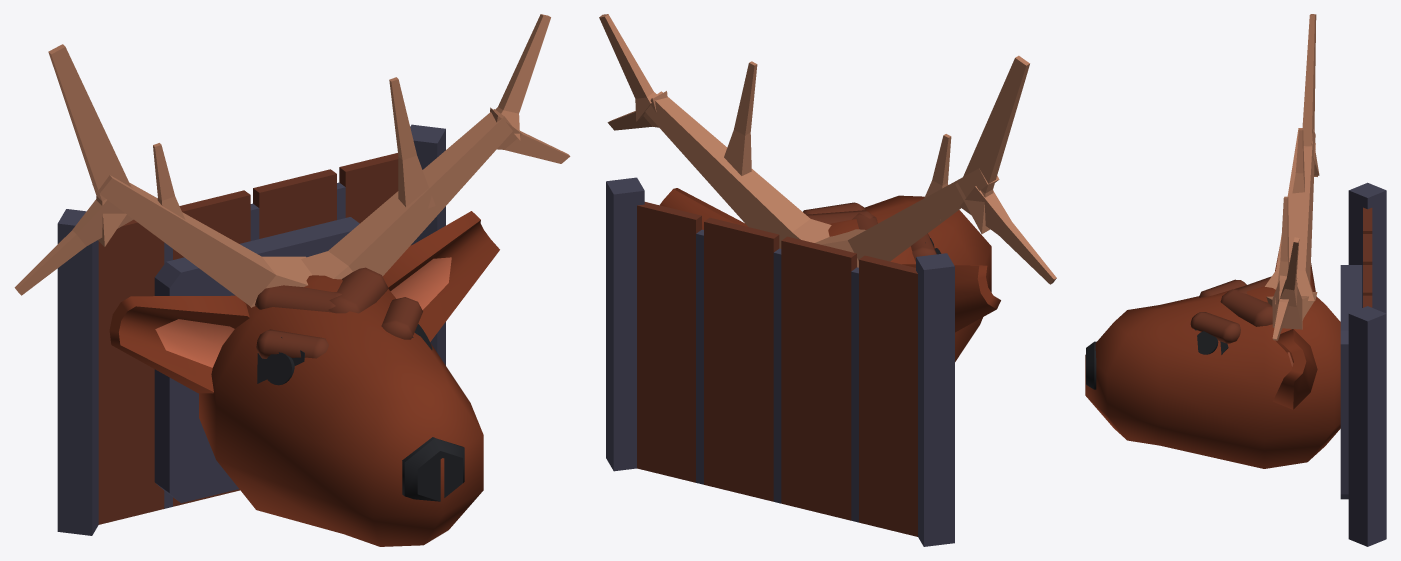
Rendered from AnimalTrophy.fbx.
3 views of the same model, side by side, from view 1: azimuth 30°, elevation 25°; view 2: azimuth 150°, elevation 25°; view 3: azimuth 270°, elevation 25° (orthographic). The views are drawn at different scales.
Visible parts, largest first — view 1: body_point, fence_garden, tree_branchLongBend (×4), ear_point (×2), roof_flat, leg (×4), tree_branchLong (×3), leafs_round, tree_branchShortBend, detail_boltNut%; view 2: fence_garden, tree_branchLongBend (×4), tree_branchLong (×3), body_point, ear_point (×2), tree_branchShortBend; view 3: body_point, fence_garden, tree_branchLongBend (×4), roof_flat, leg (×3), ear_point, tree_branchLong (×2), detail_boltNut%, leafs_round, tree_branchShortBend.
Part boxes in pixels (x1,y1,x2,y2): body_point: (199, 275, 483, 546); fence_garden: (57, 124, 445, 535); tree_branchLongBend (×4): (48, 14, 550, 307); ear_point (×2): (109, 211, 499, 393); roof_flat: (154, 217, 359, 502); leg (×4): (255, 267, 422, 358); tree_branchLong (×3): (14, 77, 435, 295); leafs_round: (402, 437, 464, 501); tree_branchShortBend: (490, 107, 570, 163); detail_boltNut%: (257, 337, 304, 385); fence_garden: (606, 177, 954, 546); tree_branchLongBend (×4): (599, 14, 1029, 267); tree_branchLong (×3): (724, 61, 1056, 284); body_point: (828, 195, 991, 361); ear_point (×2): (660, 188, 1000, 332); tree_branchShortBend: (607, 91, 667, 130); body_point: (1085, 286, 1340, 468); fence_garden: (1348, 182, 1386, 546); tree_branchLongBend (×4): (1265, 14, 1319, 329); roof_flat: (1340, 265, 1362, 499); leg (×3): (1190, 279, 1272, 343); ear_point: (1273, 329, 1317, 409); tree_branchLong (×2): (1275, 129, 1304, 304); detail_boltNut%: (1194, 329, 1228, 354); leafs_round: (1086, 341, 1096, 389); tree_branchShortBend: (1272, 275, 1297, 340).
Bounding box in the file's own units: 11.05 × 10.47 × 7.49.
